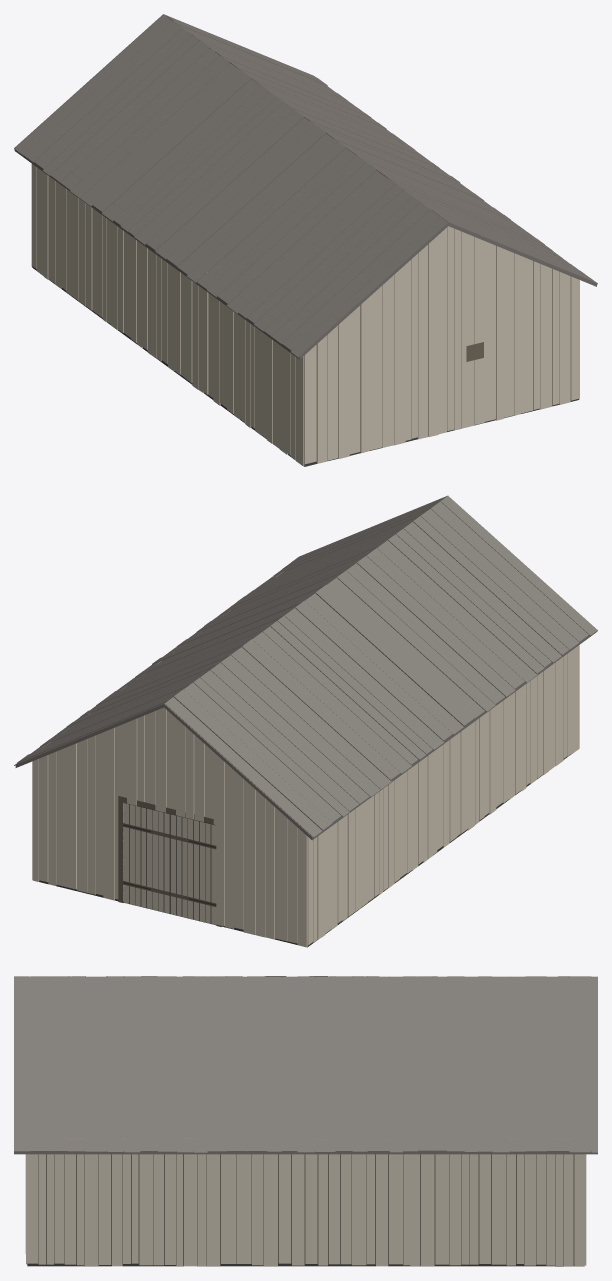
The model's file is recon_1835_west_036__inferred_1835.glb.
3 views of the same model, one above another, from view 1: azimuth 30°, elevation 25°; view 2: azimuth 150°, elevation 25°; view 3: azimuth 270°, elevation 25° (orthographic). The views are drawn at different scales.
Parts seen in each view (by area): view 1: recon_1835_west_036__inferred_1835; view 2: recon_1835_west_036__inferred_1835; view 3: recon_1835_west_036__inferred_1835.
Part boxes in pixels (x1,y1,x2,y2): recon_1835_west_036__inferred_1835: (14, 14, 597, 466); recon_1835_west_036__inferred_1835: (14, 495, 597, 947); recon_1835_west_036__inferred_1835: (14, 976, 597, 1266).
Bounding box in the file's own units: 9.35 × 6.41 × 15.33.
